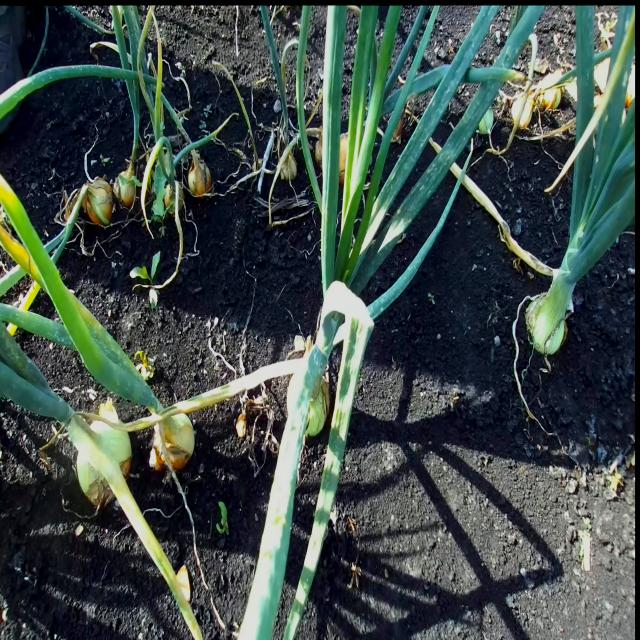onion: (67, 412, 132, 506), (150, 410, 195, 473), (524, 292, 566, 356), (315, 130, 349, 186), (304, 374, 330, 438), (82, 176, 114, 227), (112, 160, 140, 209), (187, 149, 212, 198)
